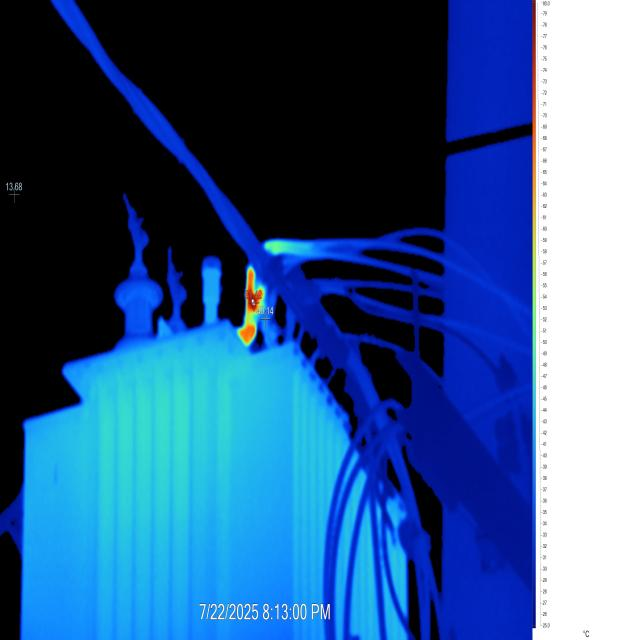Transformer: (2, 3, 534, 638)
